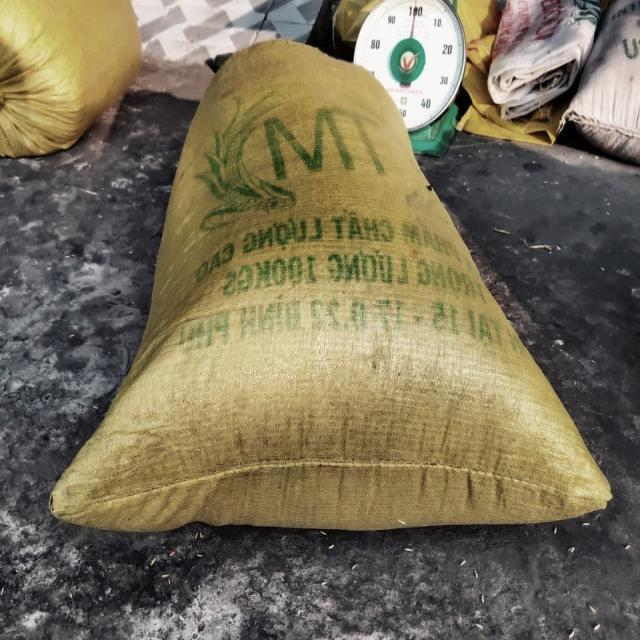gunny_bag: (50, 39, 612, 531)
